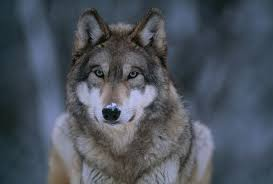wolf: (49, 6, 214, 183)
